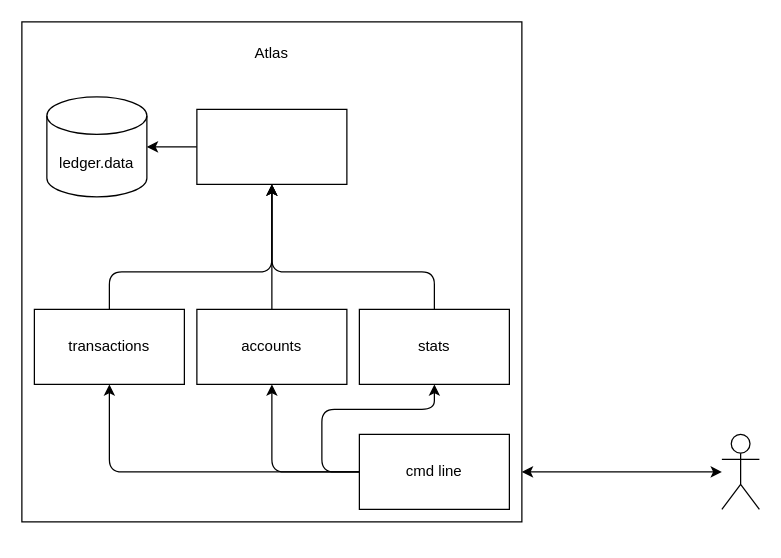
The diagram is 781 pixels wide and 558 high, and some of its shapes have lost their labels. The shapes that lost their labels are listed below. From the top down, each one's box as (x1, y1, x2, y2) in pixels, then its label:
(196, 108, 347, 184): ledger lib
(721, 433, 759, 509): Actor
